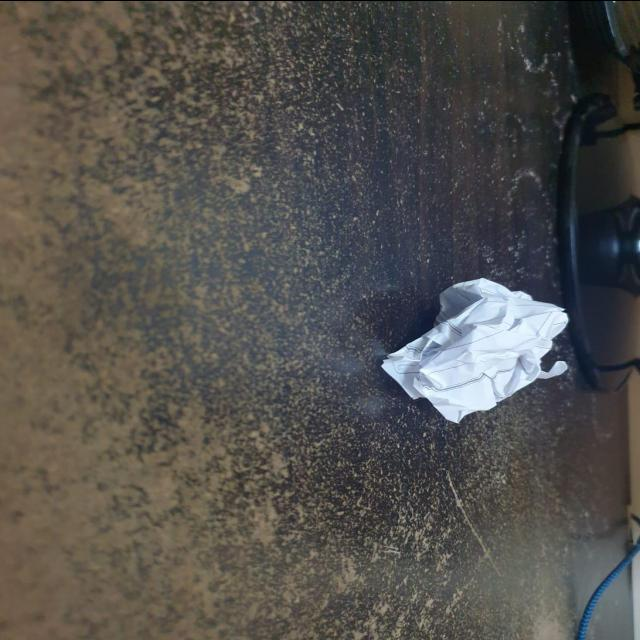kertas: (388, 280, 576, 424)
